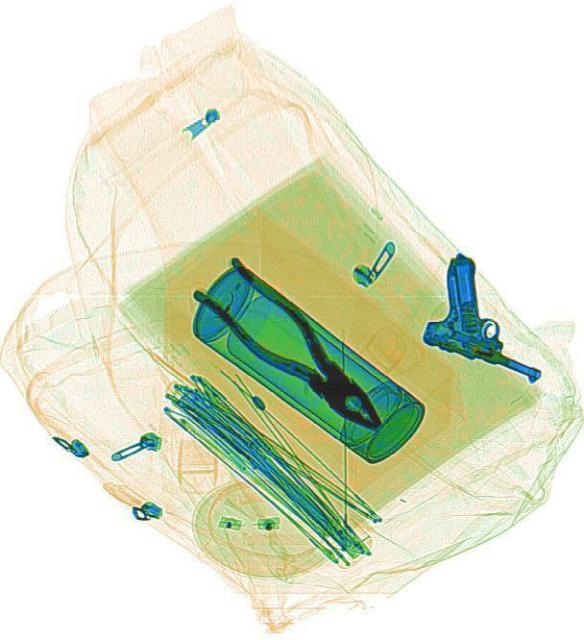Gun: (414, 247, 569, 385)
Pliers: (185, 248, 401, 452)
